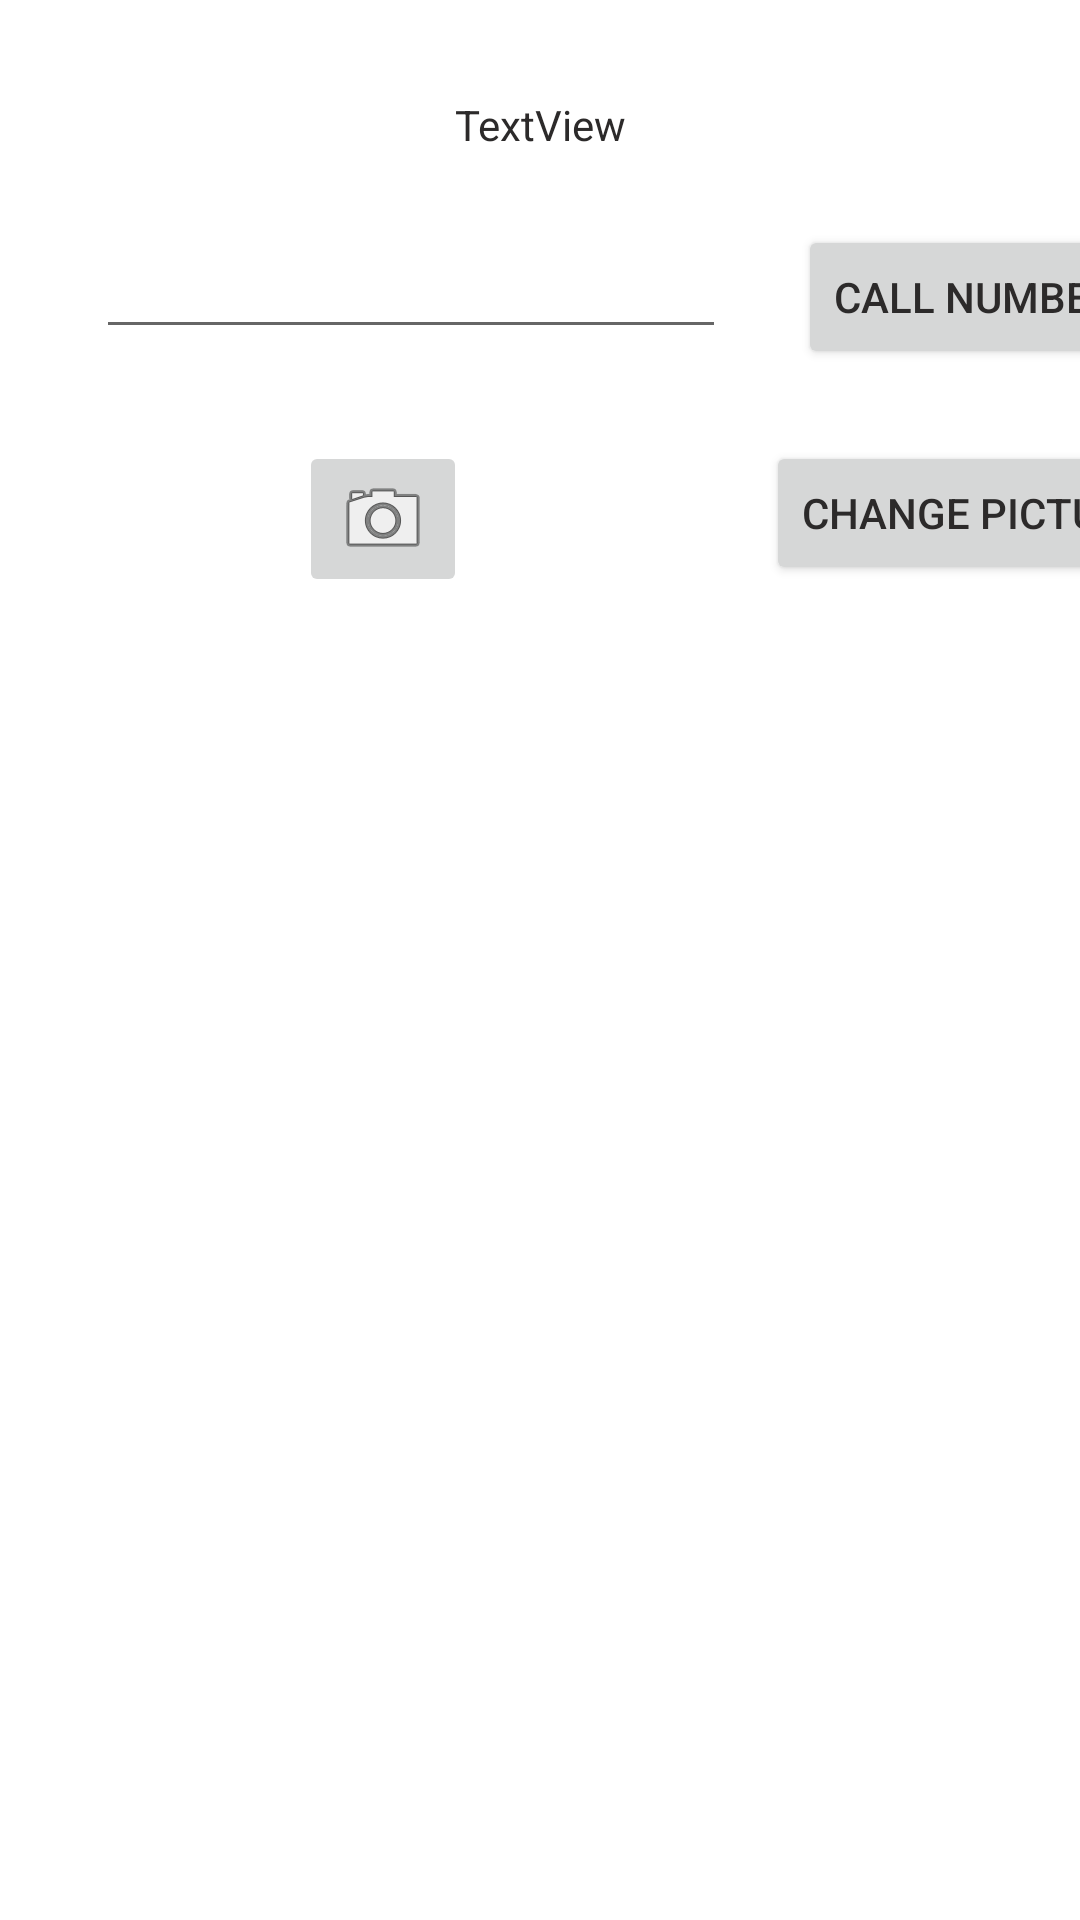

Where icons sit on this 1080x1920 app screen, as (x1,y1,x2,y2):
camera: (311,459,455,579)
